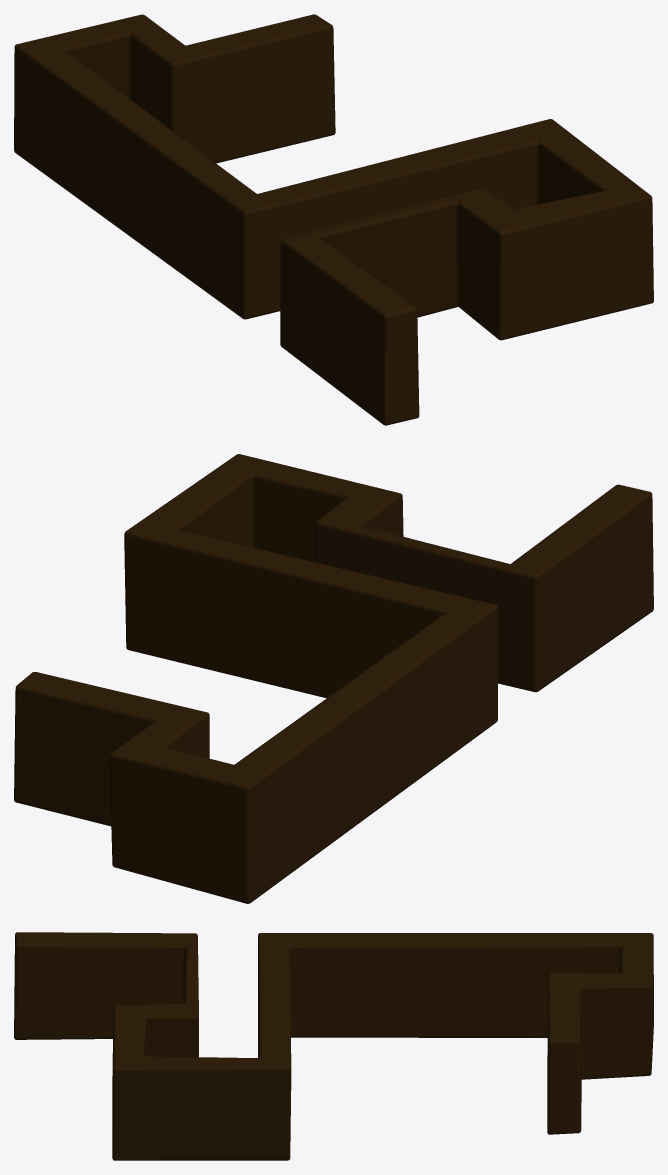
Rendered from Wall piece 14 collider.fbx.
3 renders of one model, top to bottom at view 1: azimuth 30°, elevation 25°; view 2: azimuth 150°, elevation 25°; view 3: azimuth 270°, elevation 25°, orthographic. The views are drawn at different scales.
Visible parts, largest first — view 1: wall piece 14 collider; view 2: wall piece 14 collider; view 3: wall piece 14 collider.
Boxes of the visible parts, x1,y1,x2,y2 form: wall piece 14 collider: (14,14,653,425); wall piece 14 collider: (14,454,653,903); wall piece 14 collider: (14,932,653,1160).
Size of the model in its own units: 1344 by 2641 by 438.
